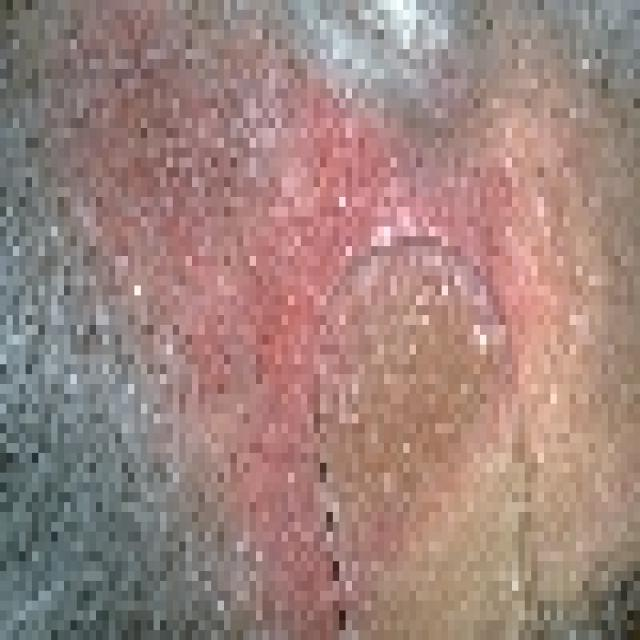lupus: (62, 43, 556, 622)
